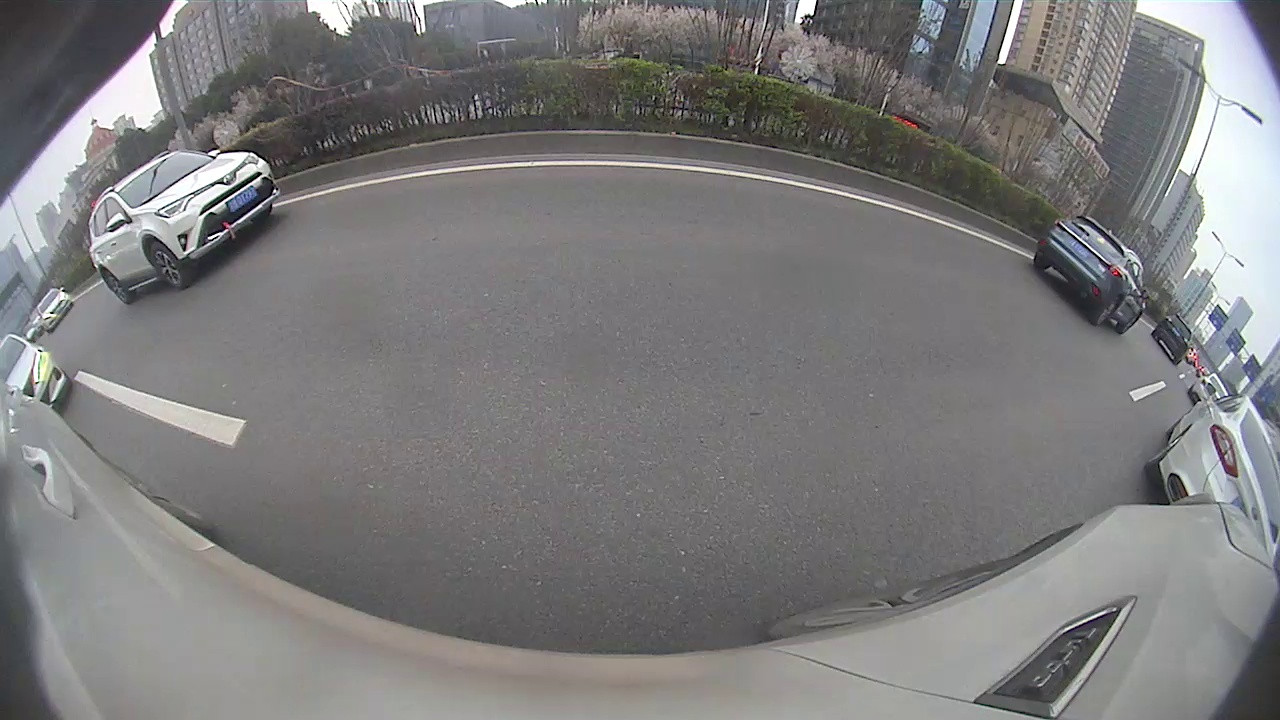car: (88, 146, 282, 305), (1143, 380, 1278, 558), (1031, 213, 1150, 337), (1150, 310, 1198, 367)
front: (148, 244, 186, 291)
rear: (100, 270, 130, 304), (1095, 295, 1123, 325)
